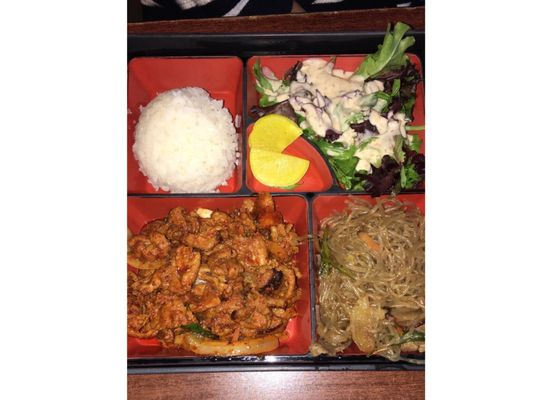curry: (129, 6, 423, 396)
